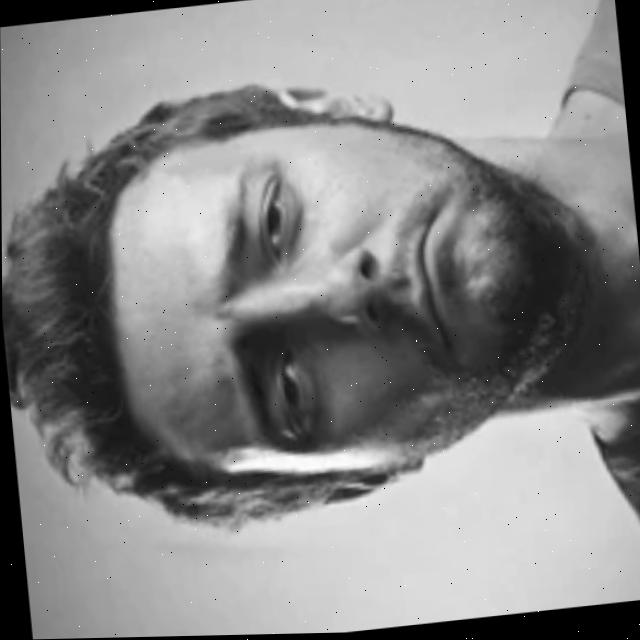sad: (184, 134, 503, 467)
